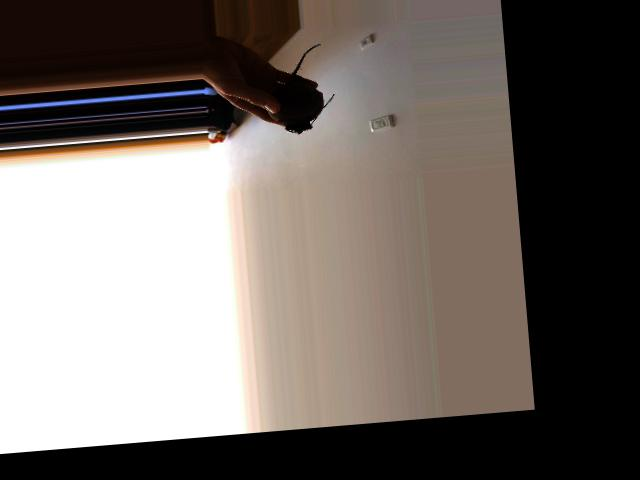beet: (262, 42, 338, 136)
